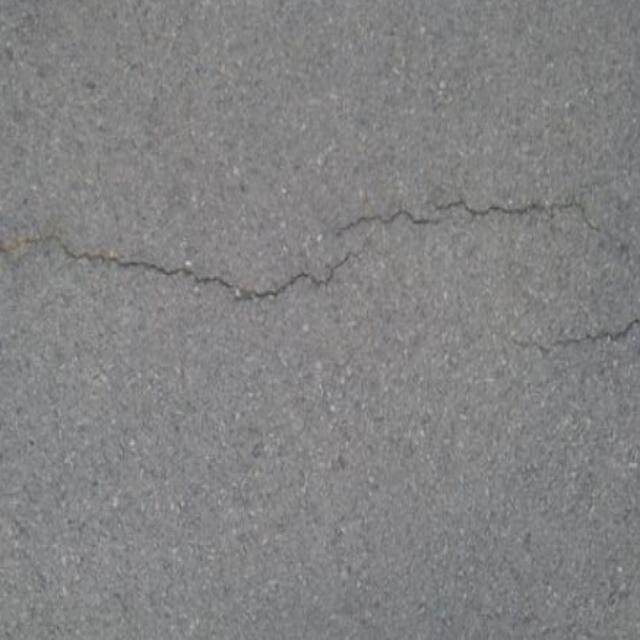Crack: (0, 222, 372, 310), (334, 187, 610, 245), (518, 310, 640, 360)
